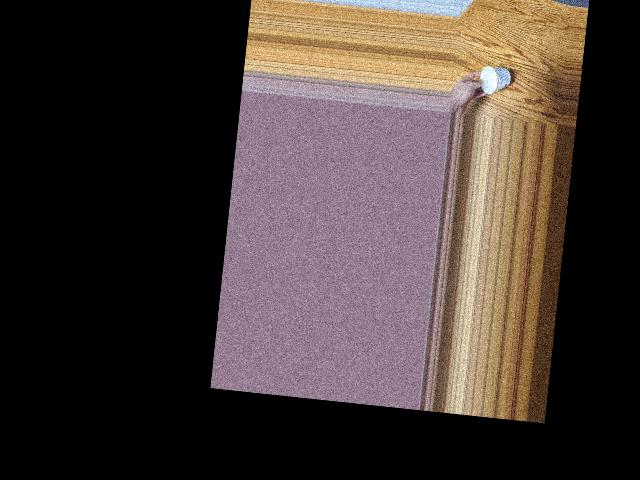cotage: (475, 65, 512, 100)
